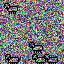sheep: (3, 2, 19, 15), (29, 41, 43, 54), (4, 53, 20, 64), (32, 53, 46, 64), (44, 53, 58, 64)
